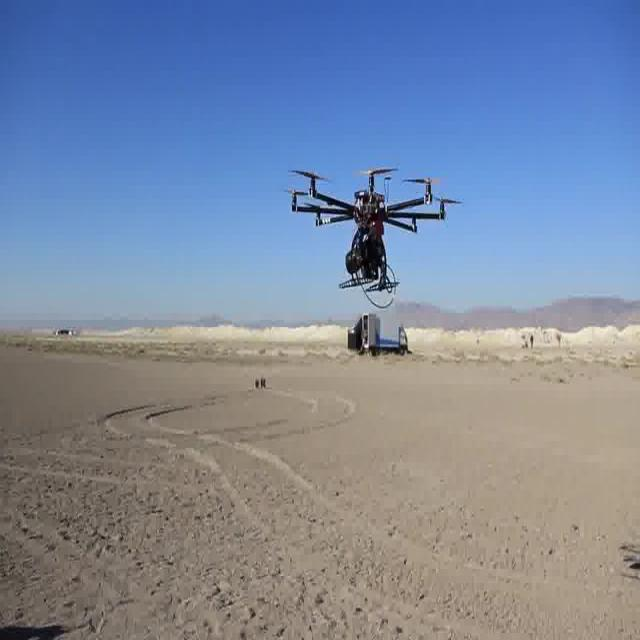drone: (276, 127, 464, 317)
